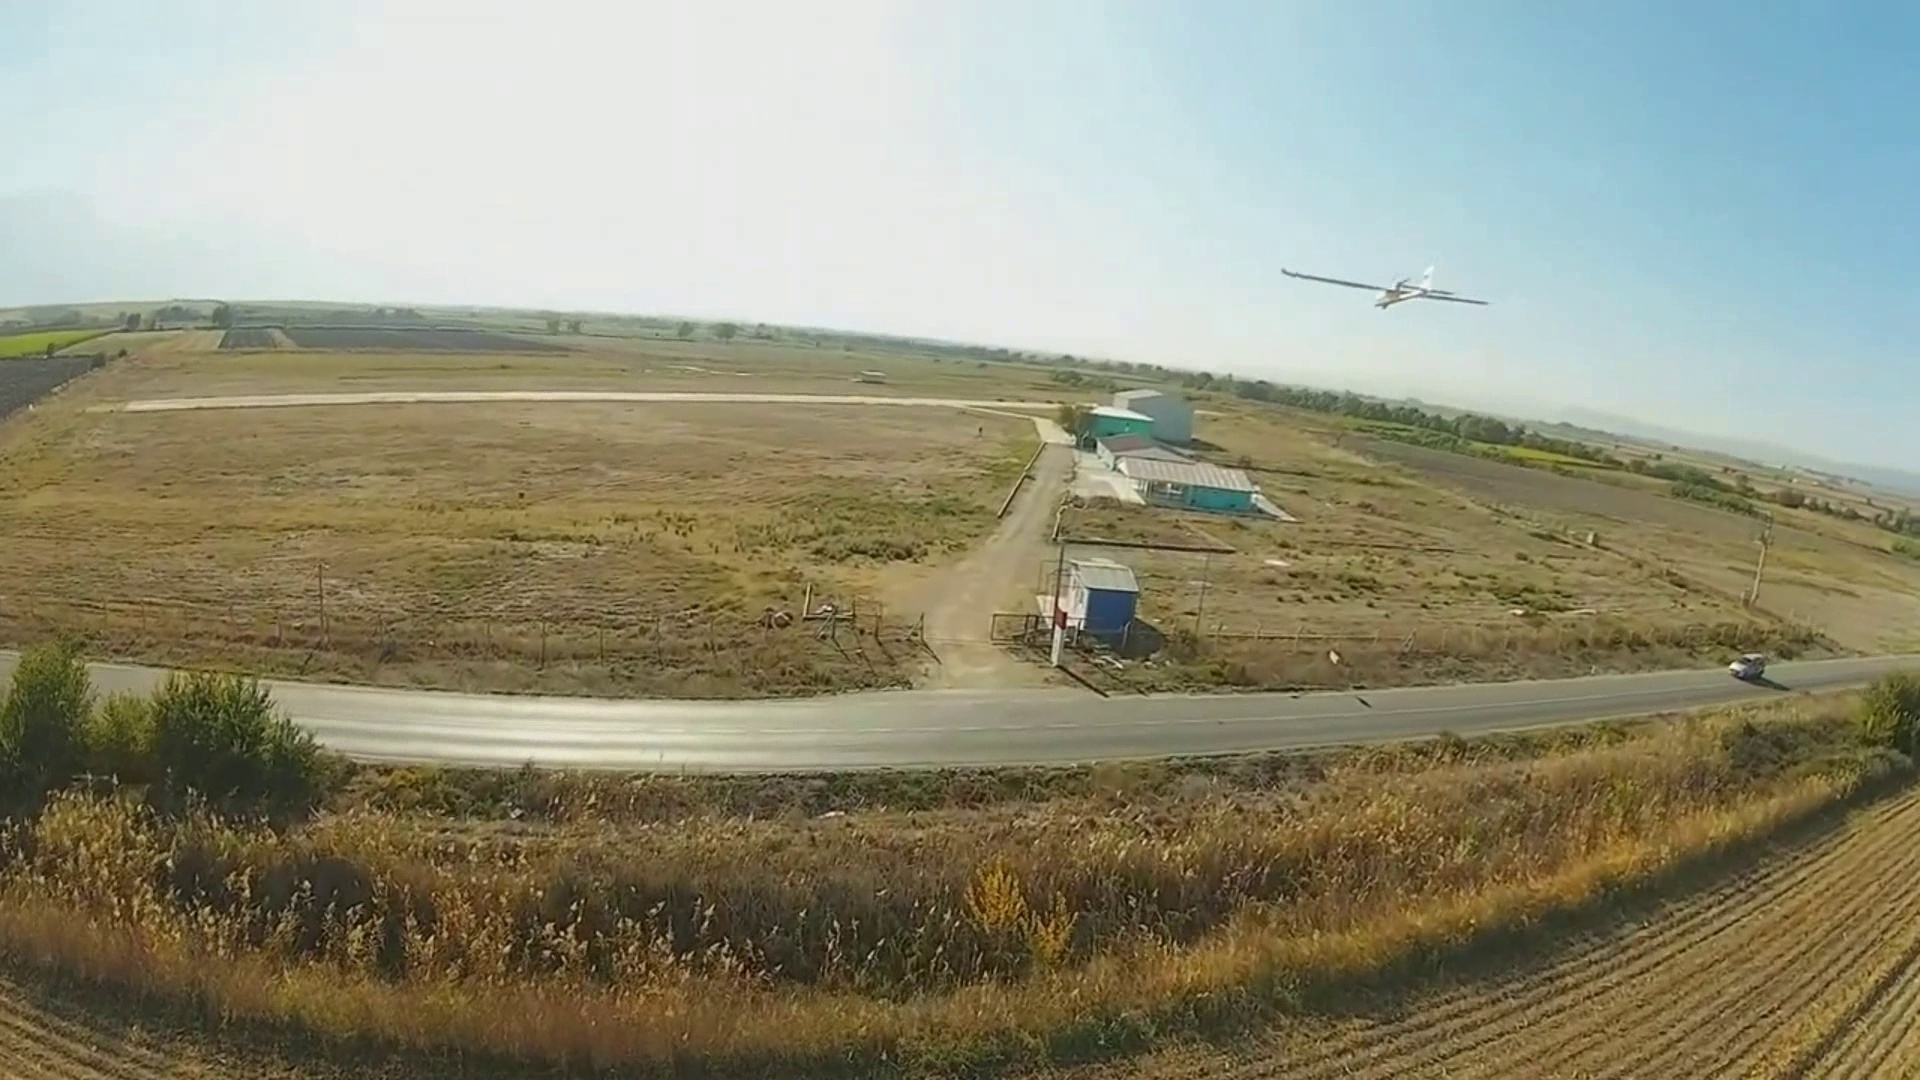airplane: (1279, 261, 1492, 312)
